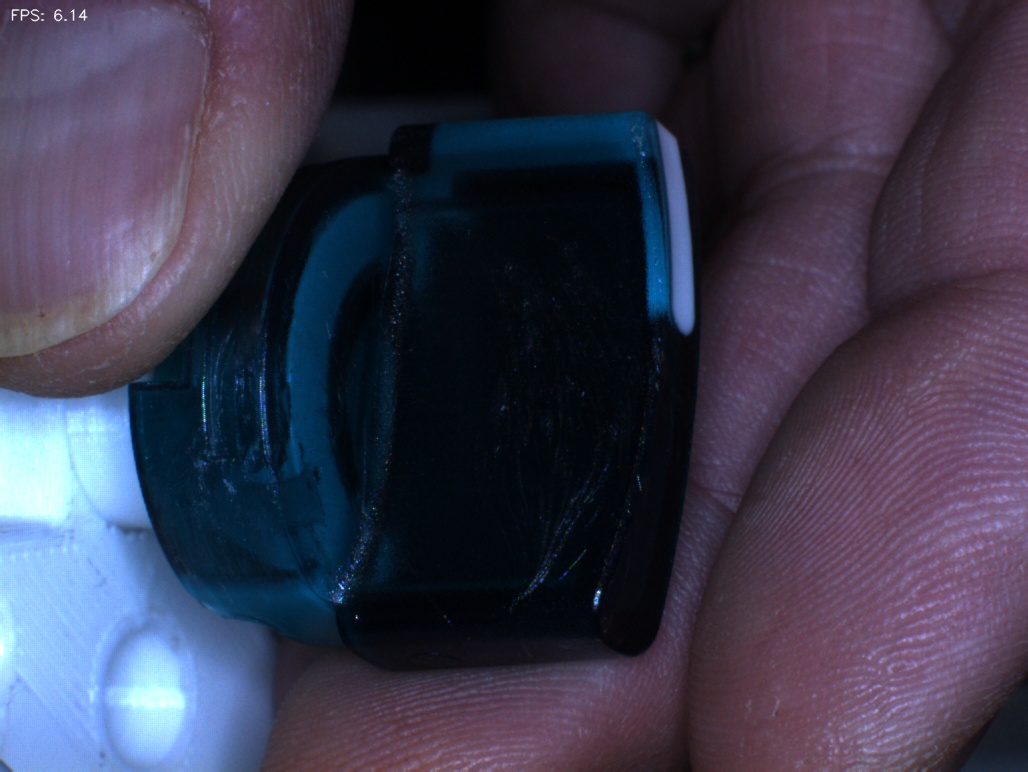Givrage: (479, 231, 625, 620)
